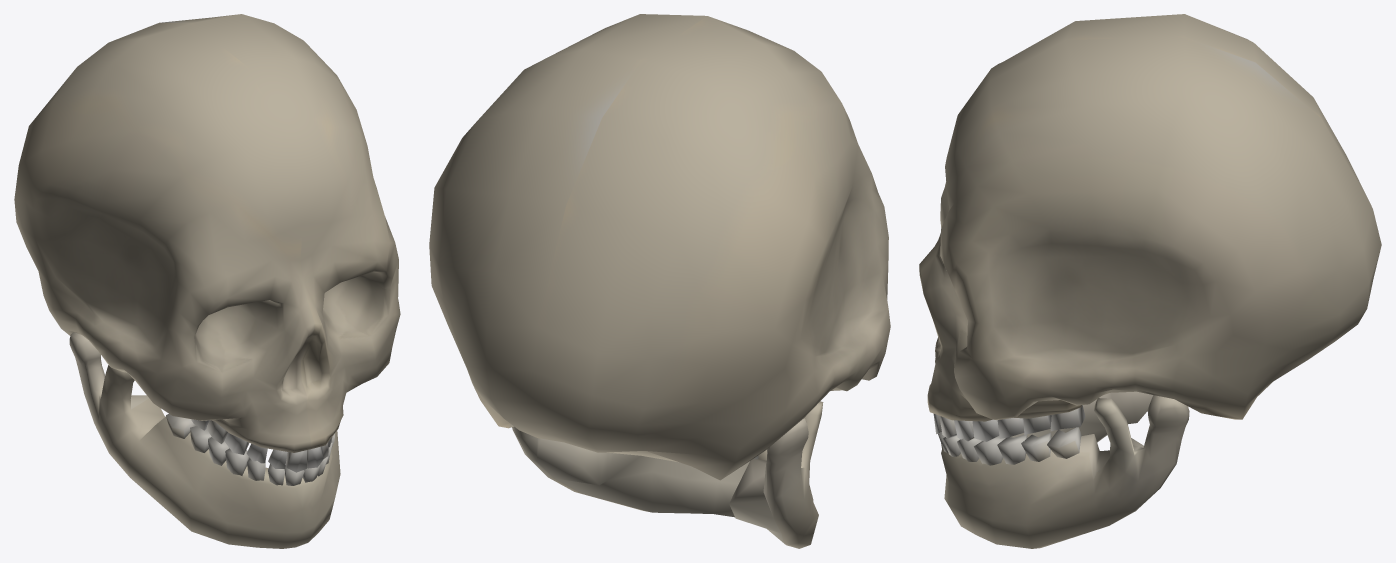
The model's file is lowpoly_realistic_human_skull.glb.
The picture shows the model from 3 angles, left to right: view 1: azimuth 30°, elevation 25°; view 2: azimuth 150°, elevation 25°; view 3: azimuth 270°, elevation 25°; orthographic projection. The views are drawn at different scales.
Parts seen in each view (by area): view 1: skull_0, jaw_1; view 2: skull_0, jaw_1; view 3: skull_0, jaw_1.
Part boxes in pixels (<box>): skull_0: <box>14,14,400,472</box>; jaw_1: <box>69,332,340,548</box>; skull_0: <box>429,14,890,480</box>; jaw_1: <box>512,401,823,548</box>; skull_0: <box>919,14,1381,441</box>; jaw_1: <box>938,391,1189,548</box>.
Bounding box in the file's own units: 0.5927 × 0.8367 × 0.7194.
Materials: 1 (1 with a texture image).
